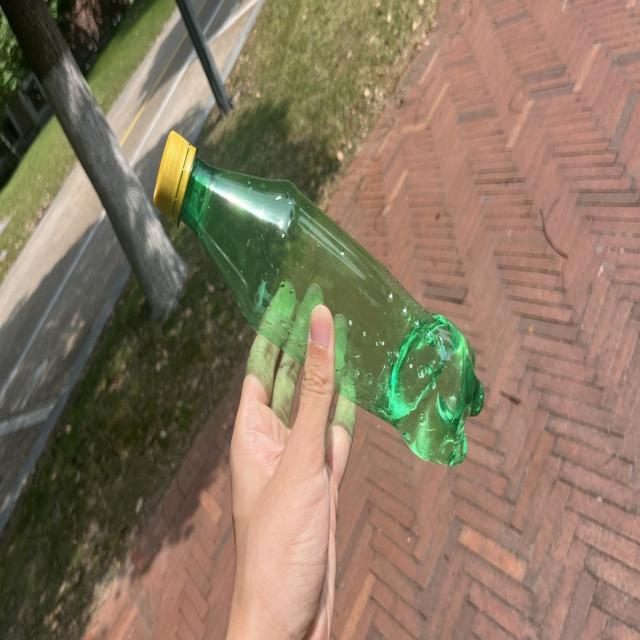low: (154, 132, 483, 465)
